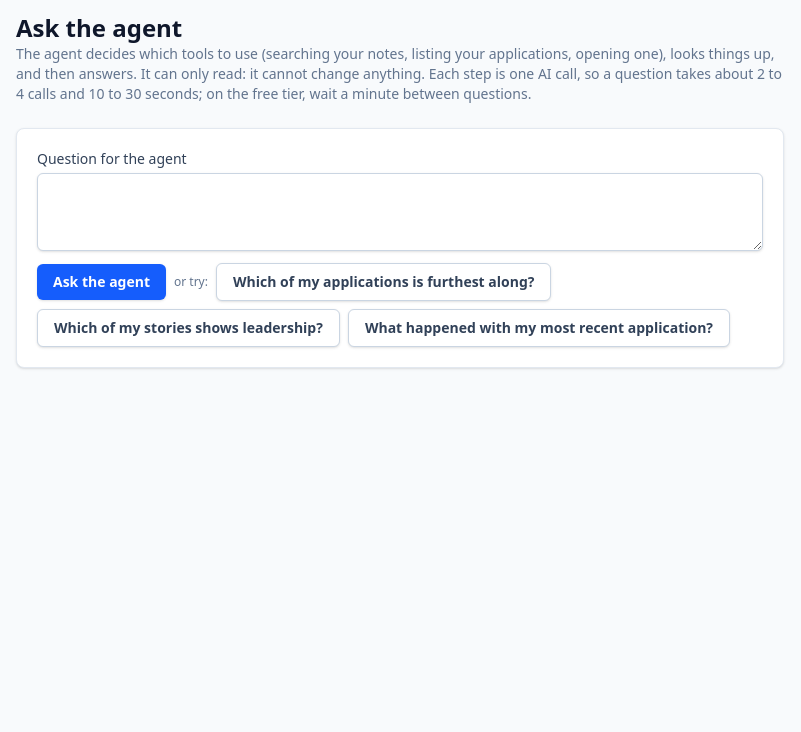
AgentPage › warns when the agent ran out of steps
In the text box labelled "Question for the agent": (400, 212) [37, 173, 763, 251], type "A hard question"
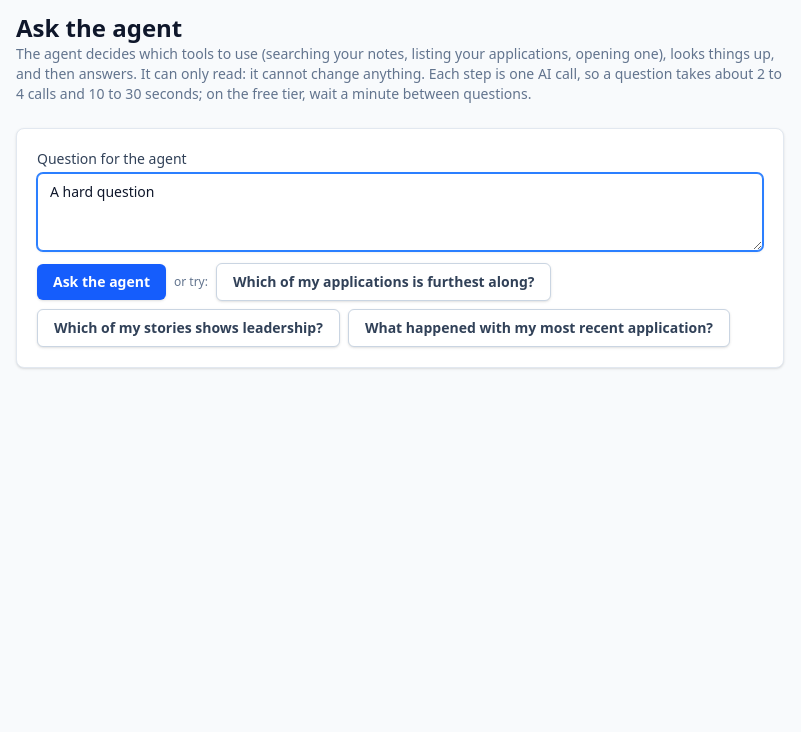
Click the button "Ask the agent": click(102, 282) [37, 264, 166, 300]
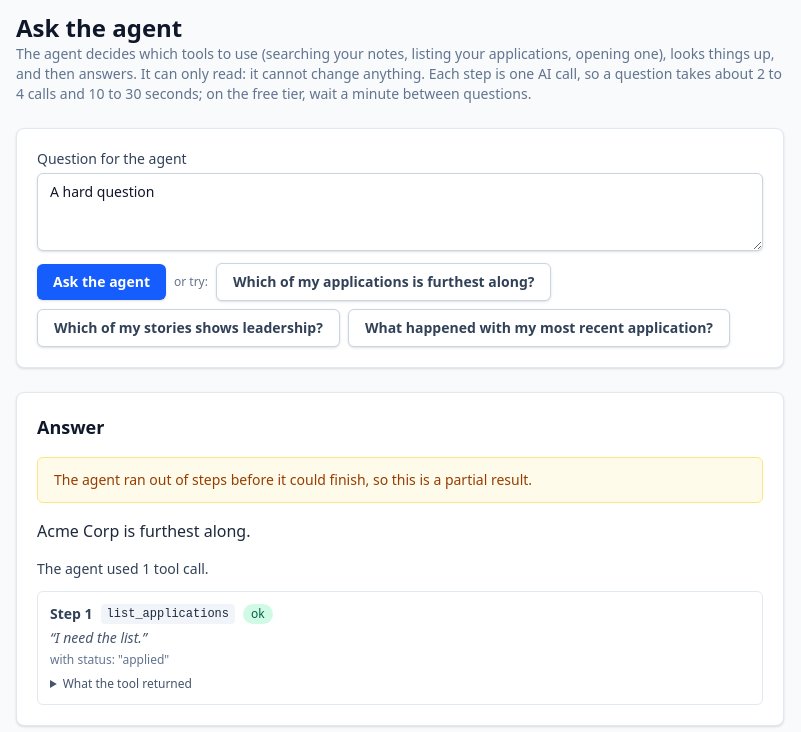
Result: the message shows "ran out of steps" at [54, 470, 532, 489]
